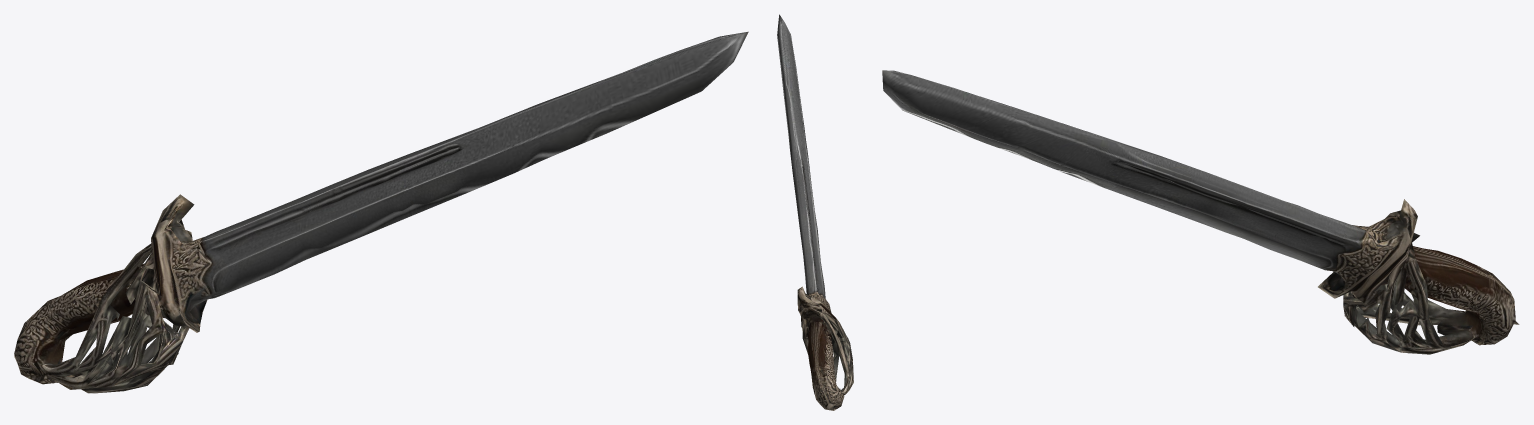
The model's file is cavalry_atk_melee.glb.
3 renders of one model, left to right at view 1: azimuth 30°, elevation 25°; view 2: azimuth 150°, elevation 25°; view 3: azimuth 270°, elevation 25°, orthographic. The views are drawn at different scales.
Parts seen in each view (by area): view 1: tripo_node_8e68a4d6-8fbc-4fad-b80f-b2871ee4e5fb; view 2: tripo_node_8e68a4d6-8fbc-4fad-b80f-b2871ee4e5fb; view 3: tripo_node_8e68a4d6-8fbc-4fad-b80f-b2871ee4e5fb.
Boxes of the visible parts, <box> form: tripo_node_8e68a4d6-8fbc-4fad-b80f-b2871ee4e5fb: <box>14,31,748,393</box>; tripo_node_8e68a4d6-8fbc-4fad-b80f-b2871ee4e5fb: <box>777,14,853,410</box>; tripo_node_8e68a4d6-8fbc-4fad-b80f-b2871ee4e5fb: <box>882,70,1519,354</box>.
Size of the model in its own units: 0.466 by 0.4874 by 0.5997.
Materials: 1 (1 with a texture image).
